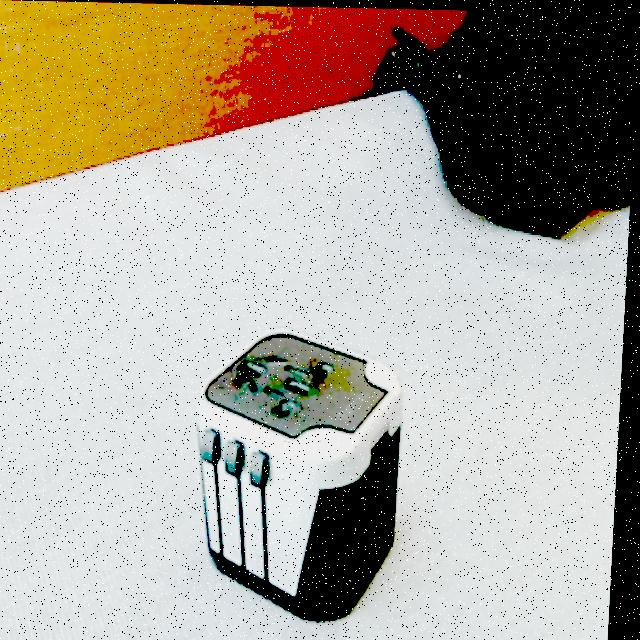adapter: (190, 324, 412, 620)
